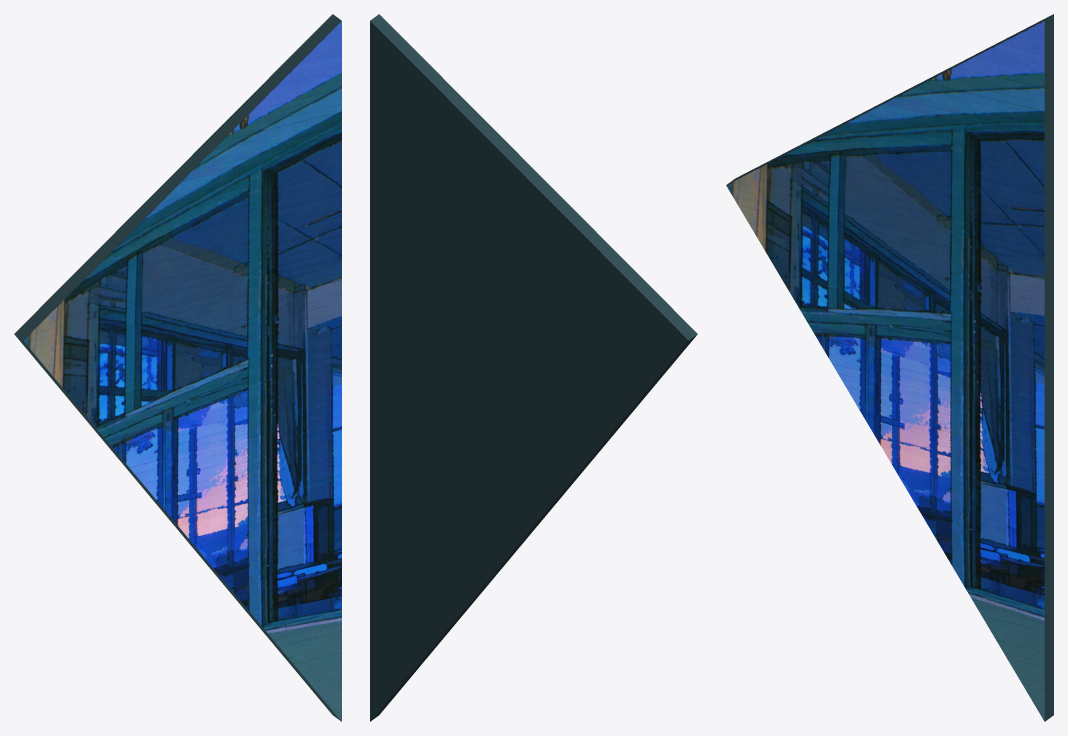
The picture shows the model from 3 angles, left to right: view 1: azimuth 30°, elevation 25°; view 2: azimuth 150°, elevation 25°; view 3: azimuth 330°, elevation 25°; orthographic projection.
Parts seen in each view (by area): view 1: Piece_10; view 2: Piece_10; view 3: Piece_10.
Boxes of the visible parts, box(x1,y1,x2,y2) form: Piece_10: box(14, 14, 341, 721); Piece_10: box(370, 14, 697, 721); Piece_10: box(726, 14, 1053, 721).
Size of the model in its own units: 0.5 by 1.05 by 0.025.
Materials: 2 (1 with a texture image).
